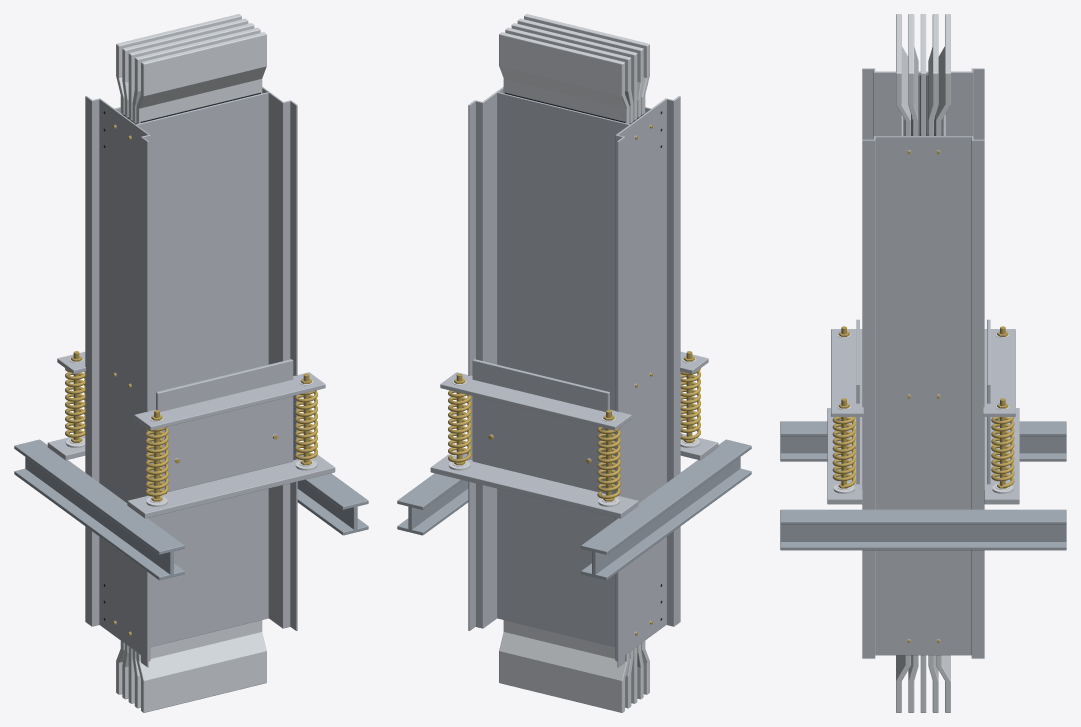
File: spring-support.glb
The picture shows the model from 3 angles, left to right: view 1: azimuth 30°, elevation 25°; view 2: azimuth 150°, elevation 25°; view 3: azimuth 270°, elevation 25°; orthographic projection.
Parts seen in each view (by area): view 1: Recessed side sheet, Continuous folded upper profile, Continuous folded lower profile, Clamping cheek, Blade 1 plated spread terminal, Blade 1 plated spread terminal.001, Channel flange.001, Cross plate, Upper bearing angle, Channel flange, Channel web, Compression spring - ten turns (+9 smaller); view 2: Recessed side sheet.001, Continuous folded upper profile, Continuous folded lower profile, Clamping cheek.001, Blade 5 plated spread terminal, Blade 5 plated spread terminal.001, Channel flange.001, Cross plate.001, Upper bearing angle.001, Channel flange, Channel web, Compression spring - ten turns.001 (+9 smaller); view 3: Continuous folded lower profile, Continuous folded upper profile, Channel web.001, Channel flange.003, Channel flange.002, Upper bearing angle, Upper bearing angle.001, Channel web, Cross plate, Cross plate.001, Channel flange.001, Compression spring - ten turns.003 (+11 smaller).
Part boxes in pixels (x1,y1,x2,y2): Recessed side sheet: (136,92,268,646); Continuous folded upper profile: (85,96,150,667); Continuous folded lower profile: (262,87,297,630); Clamping cheek: (156,359,293,491); Blade 1 plated spread terminal: (136,620,266,712); Blade 1 plated spread terminal.001: (136,32,266,123); Channel flange.001: (14,439,184,554); Cross plate: (127,454,335,518); Upper bearing angle: (134,372,325,430); Channel flange: (14,468,184,580); Channel web: (25,457,173,574); Compression spring - ten turns: (145,426,168,496); Recessed side sheet.001: (497,92,629,646); Continuous folded upper profile: (615,96,680,667); Continuous folded lower profile: (468,87,503,630); Clamping cheek.001: (472,359,609,493); Blade 5 plated spread terminal: (499,620,629,712); Blade 5 plated spread terminal.001: (499,32,629,123); Channel flange.001: (581,439,751,554); Cross plate.001: (430,454,638,518); Upper bearing angle.001: (440,372,631,430); Channel flange: (581,468,751,580); Channel web: (592,457,740,574); Compression spring - ten turns.001: (597,427,620,498); Continuous folded lower profile: (862,136,984,658); Continuous folded upper profile: (862,68,984,139); Channel web.001: (780,525,1066,541); Channel flange.003: (780,509,1066,524); Channel flange.002: (780,542,1066,550); Upper bearing angle: (831,329,863,416); Upper bearing angle.001: (983,329,1015,416); Channel web: (780,436,1066,453); Cross plate: (827,408,862,504); Cross plate.001: (984,408,1019,504); Channel flange.001: (780,421,1066,436); Compression spring - ten turns.003: (991,417,1014,488).
Size of the model in its own units: 0.292 by 0.864 by 0.35.
